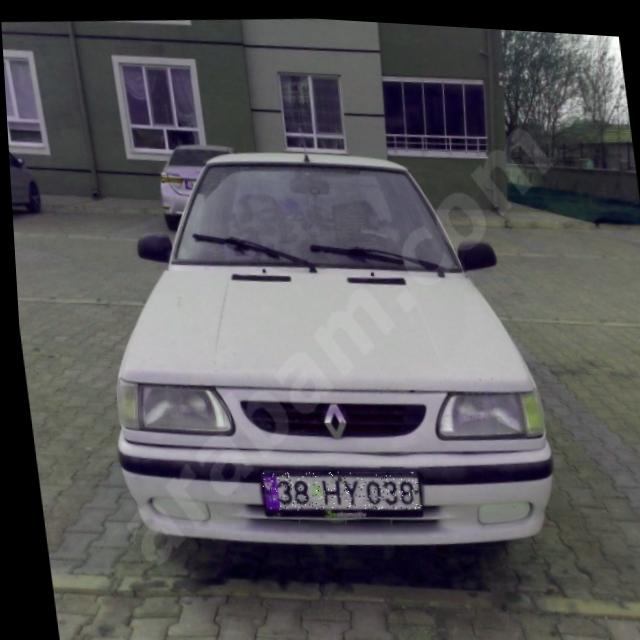license_plate: (254, 459, 416, 515)
